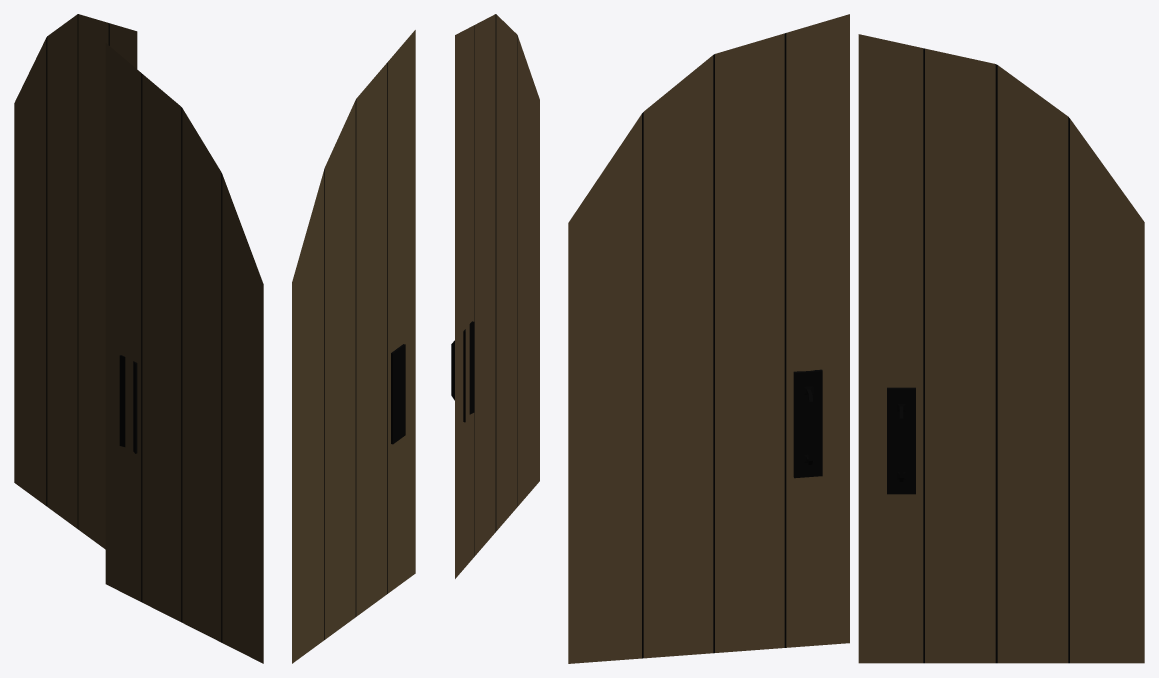
Rendered from Walls_door_color.fbx.
The picture shows the model from 3 angles, left to right: view 1: azimuth 30°, elevation 25°; view 2: azimuth 150°, elevation 25°; view 3: azimuth 270°, elevation 25°; orthographic projection. The views are drawn at different scales.
Parts seen in each view (by area): view 1: Walls_door_color; view 2: Walls_door_color; view 3: Walls_door_color.
Part boxes in pixels (box(x1,y1,x2,y2)): Walls_door_color: box(14, 14, 263, 663); Walls_door_color: box(292, 14, 539, 663); Walls_door_color: box(568, 14, 1144, 663).
Size of the model in its own units: 57.8 by 599 by 498.
